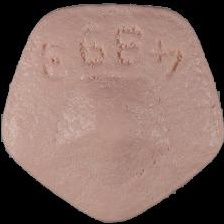0007-4893: (0, 0, 224, 224)
